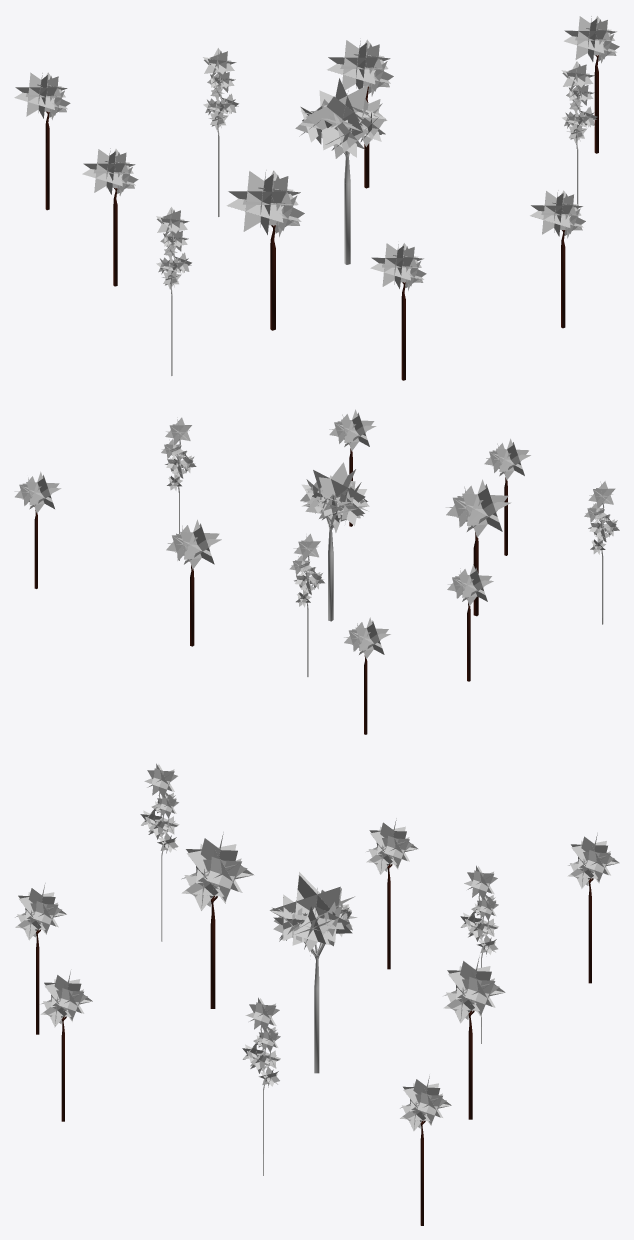
File: RhodeForest.obj
The picture shows the model from 3 angles, top to bottom: view 1: azimuth 30°, elevation 25°; view 2: azimuth 150°, elevation 25°; view 3: azimuth 270°, elevation 25°; orthographic projection. The views are drawn at different scales.
Parts seen in each view (by area): view 1: SmallTree.010_Cube.007; view 2: SmallTree.010_Cube.007; view 3: SmallTree.010_Cube.007.
Part boxes in pixels (x1,y1,x2,y2): SmallTree.010_Cube.007: [14, 16, 619, 380]; SmallTree.010_Cube.007: [14, 409, 619, 734]; SmallTree.010_Cube.007: [15, 763, 619, 1225].
Size of the model in its own units: 330 by 99.54 by 281.
